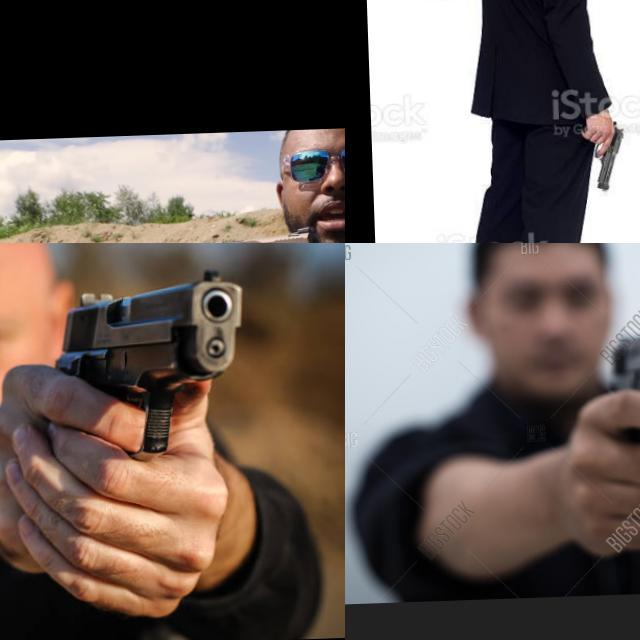handgun: (46, 264, 256, 458), (609, 298, 640, 456), (588, 114, 630, 194), (159, 225, 329, 243)
